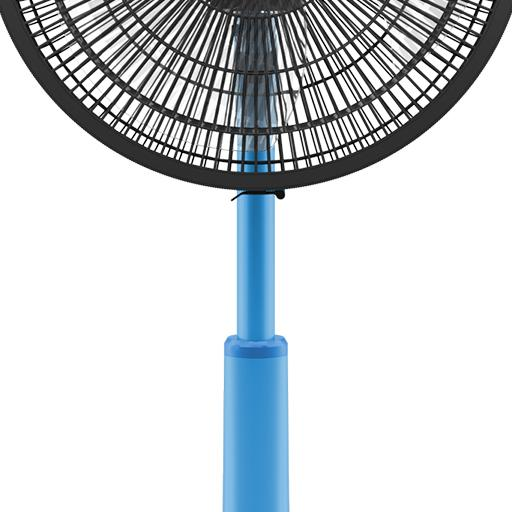Fan: (0, 0, 512, 190)
